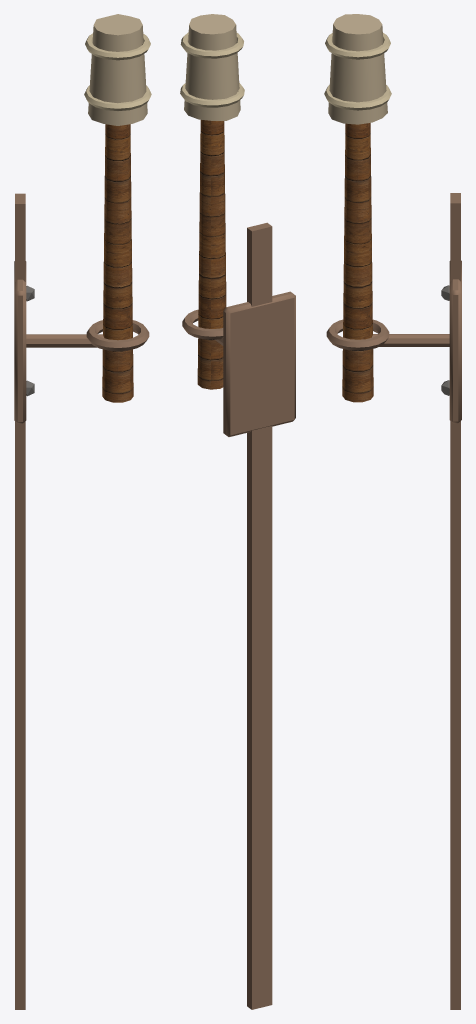
File: torch-bracket-v01.glb
The picture shows the model from 3 angles, left to right: view 1: azimuth 90°, elevation 25°; view 2: azimuth 210°, elevation 25°; view 3: azimuth 270°, elevation 25°; orthographic projection. The views are drawn at different scales.
Parts seen in each view (by area): view 1: torch-bracket; view 2: torch-bracket; view 3: torch-bracket.
Part boxes in pixels (<box>): torch-bracket: <box>14,14,151,1009</box>; torch-bracket: <box>180,14,295,1009</box>; torch-bracket: <box>324,14,461,1009</box>.
Size of the model in its own units: 0.24 by 3.1 by 0.3945.
Materials: 5 (1 with a texture image).
